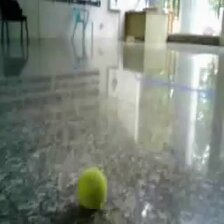tennis: (76, 168, 106, 207)
